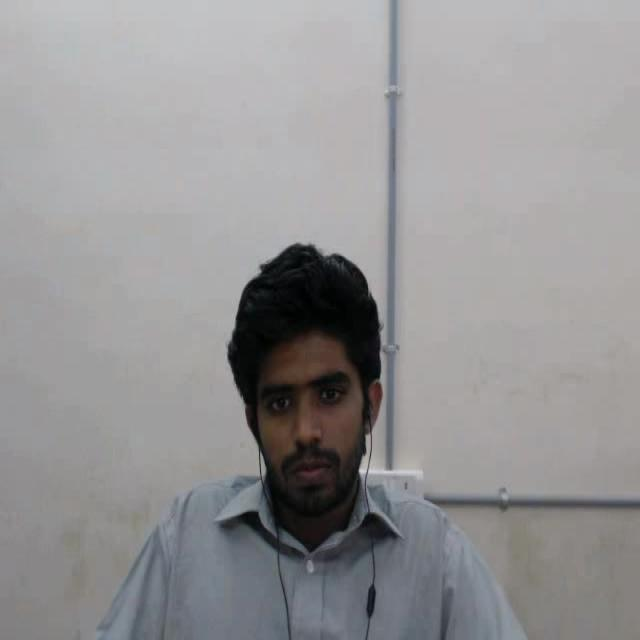Engaged: (196, 232, 403, 557)
